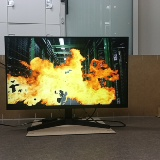fire: (5, 37, 127, 107)
